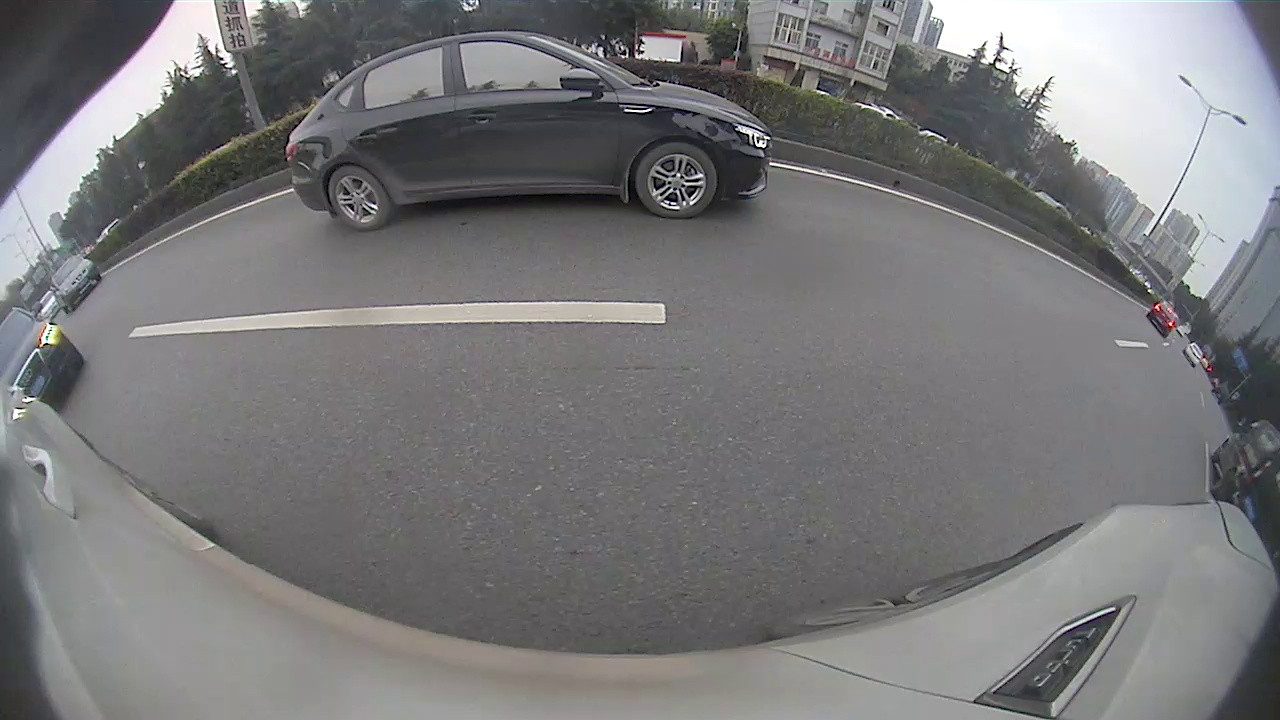car: (286, 30, 771, 232), (1, 307, 83, 412), (1212, 415, 1278, 545), (48, 256, 100, 312), (1146, 300, 1180, 338)
front: (635, 141, 719, 220)
rear: (326, 162, 394, 229)
